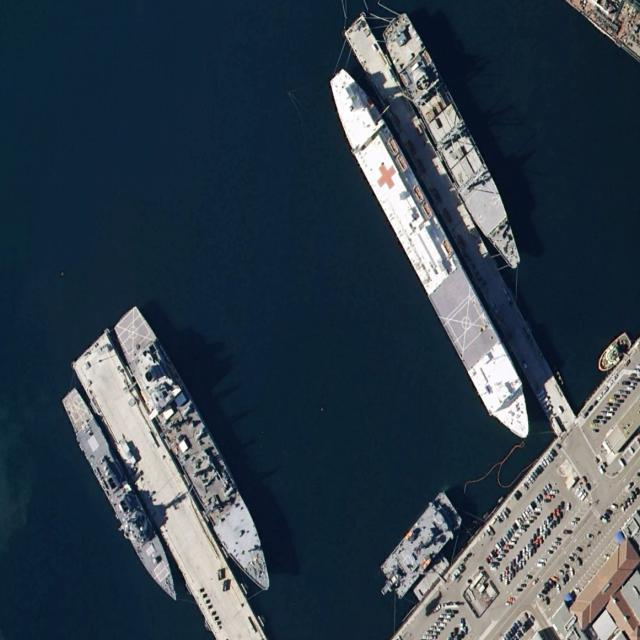Auxiliary Ships: (319, 55, 544, 454)
Cargo: (378, 7, 534, 279)
Commander: (107, 298, 286, 605)
Destroyer: (57, 384, 186, 612)
Other Ship: (594, 327, 633, 379)
Other Warship: (373, 489, 465, 607)
